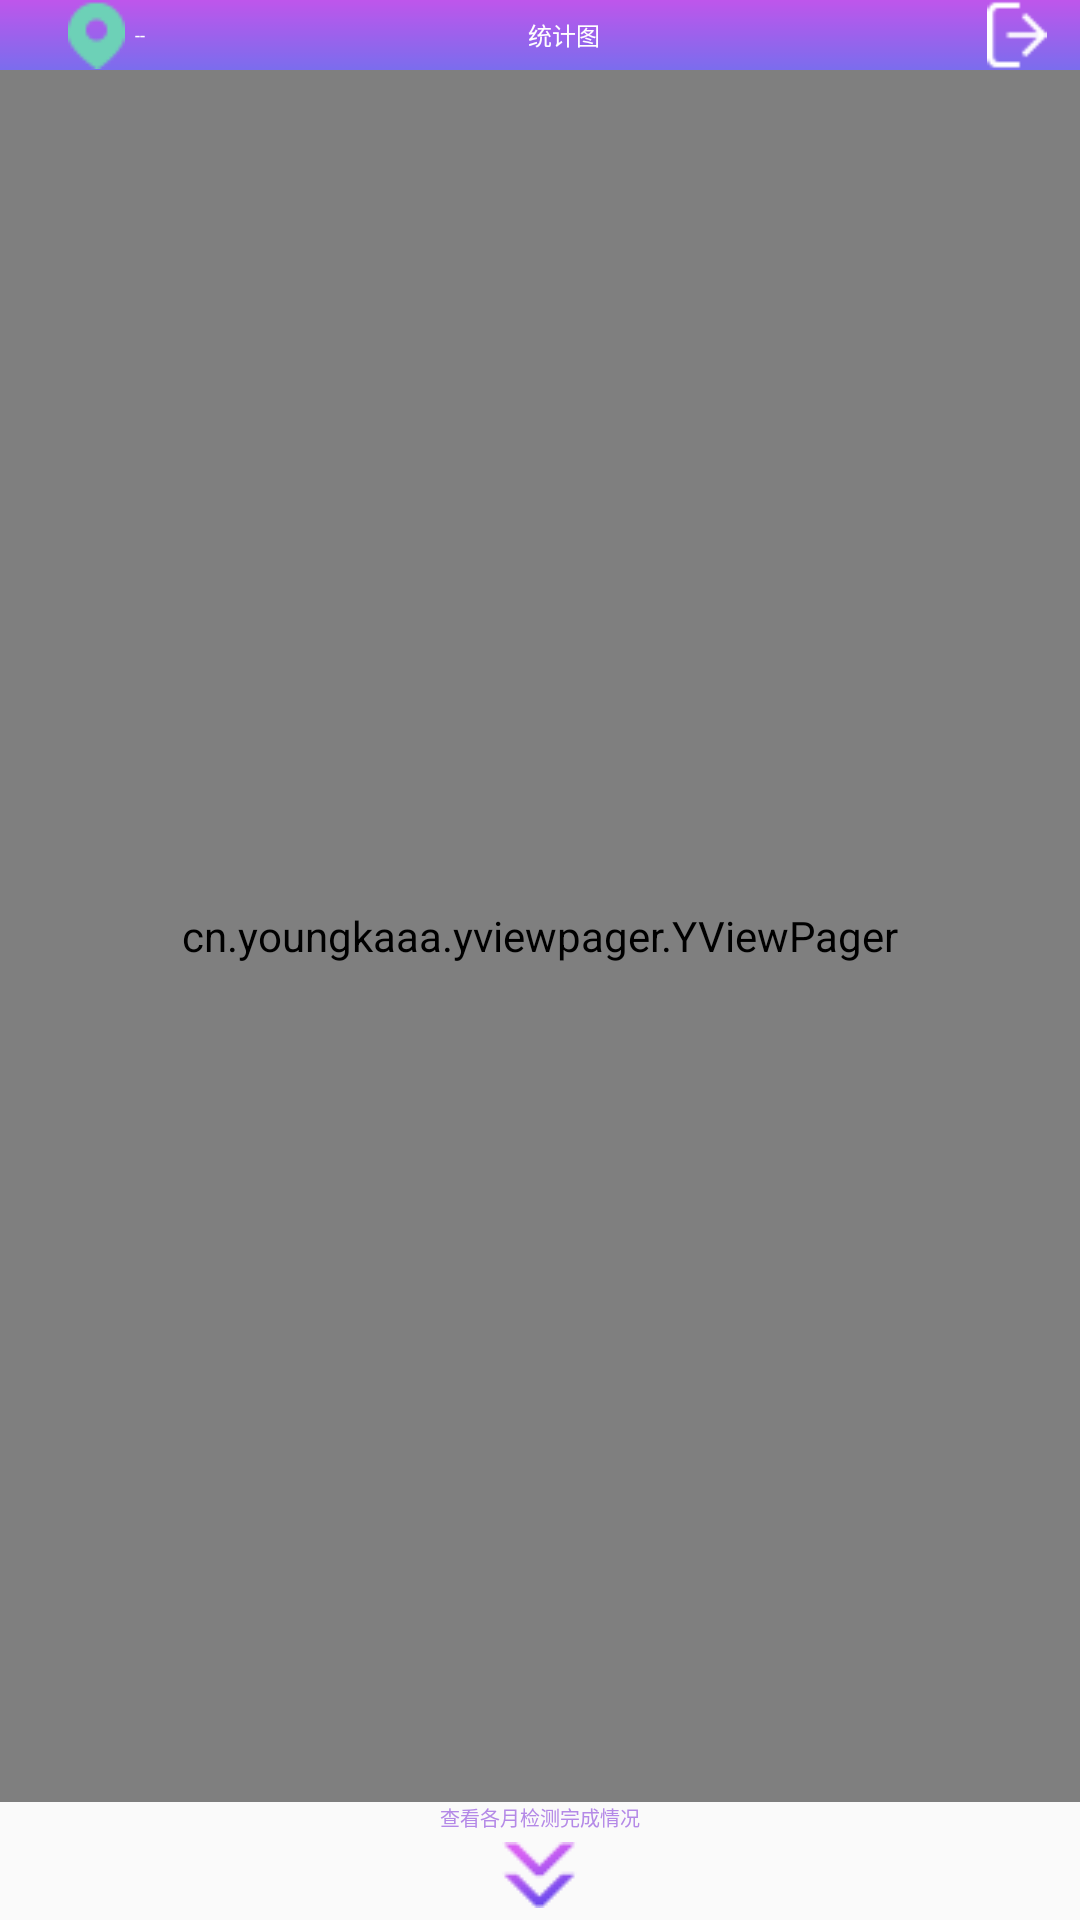

Icons on this 1080px×1920px Android screen, each with the point to tap as point (x, y):
arrow down: point (539, 1875)
location: point (96, 34)
login out: point (1017, 35)
